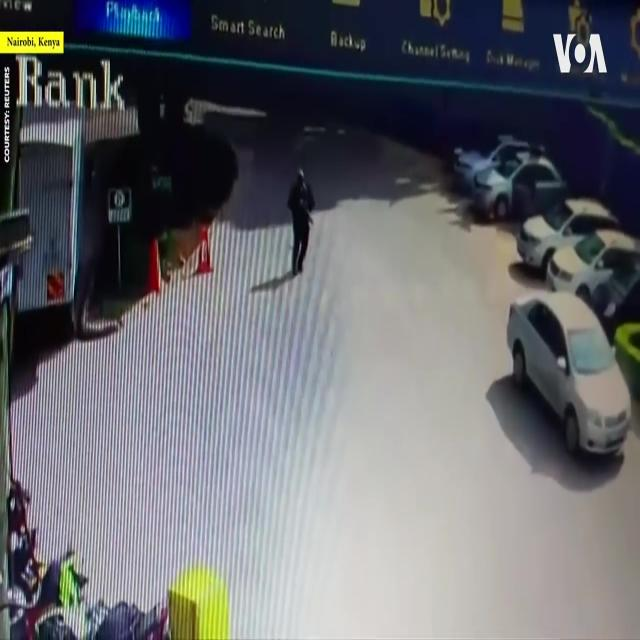Weapon: (291, 187, 325, 267)
